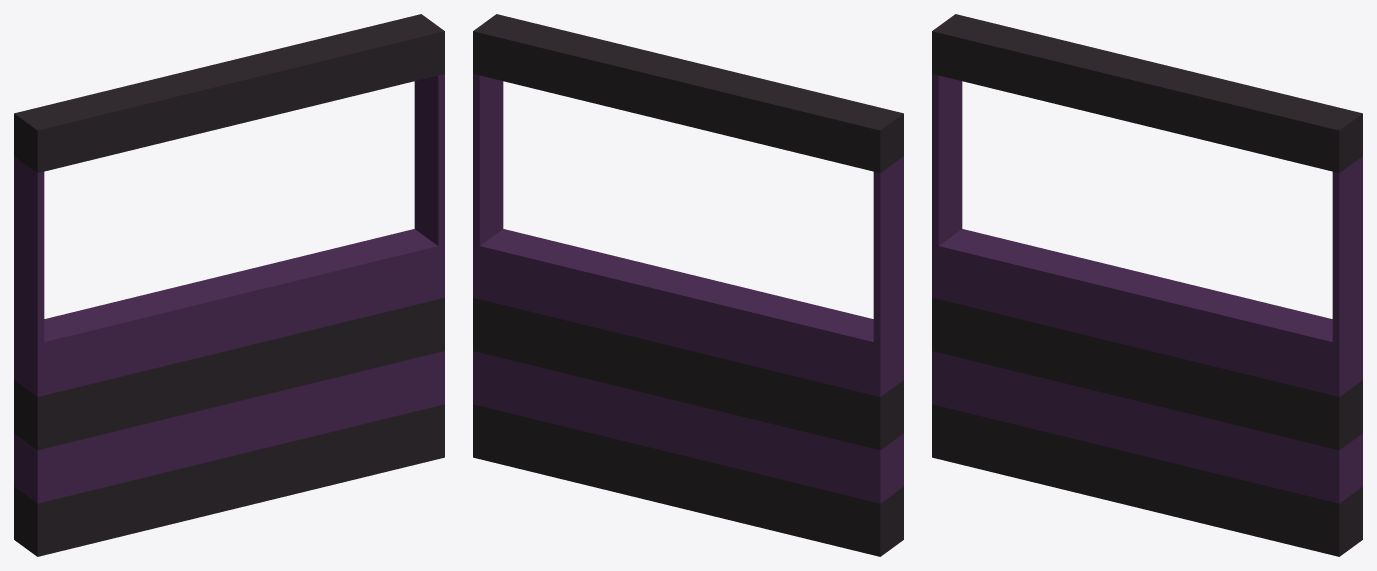
The model's file is Wall Opening.fbx.
The picture shows the model from 3 angles, left to right: view 1: azimuth 30°, elevation 25°; view 2: azimuth 150°, elevation 25°; view 3: azimuth 330°, elevation 25°; orthographic projection.
Visible parts, largest first — view 1: Wall Opening; view 2: Wall Opening; view 3: Wall Opening.
Boxes of the visible parts, x1,y1,x2,y2 form: Wall Opening: [14, 14, 444, 556]; Wall Opening: [473, 14, 903, 556]; Wall Opening: [932, 14, 1362, 556].
Bounding box in the file's own units: 2000 × 2000 × 200.
